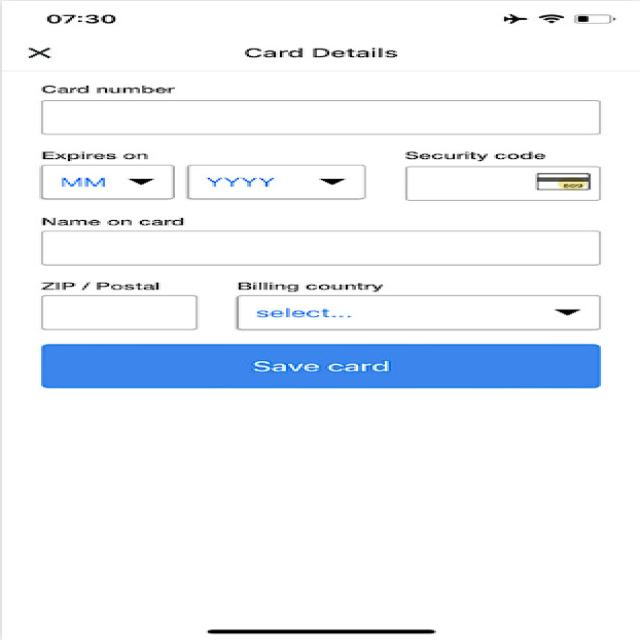button: (12, 343, 614, 396)
icon button: (9, 42, 78, 70)
input: (21, 78, 614, 144), (18, 210, 618, 273), (19, 147, 392, 205), (239, 278, 609, 334), (404, 147, 614, 207), (22, 280, 205, 336)
text: (221, 38, 416, 68)
